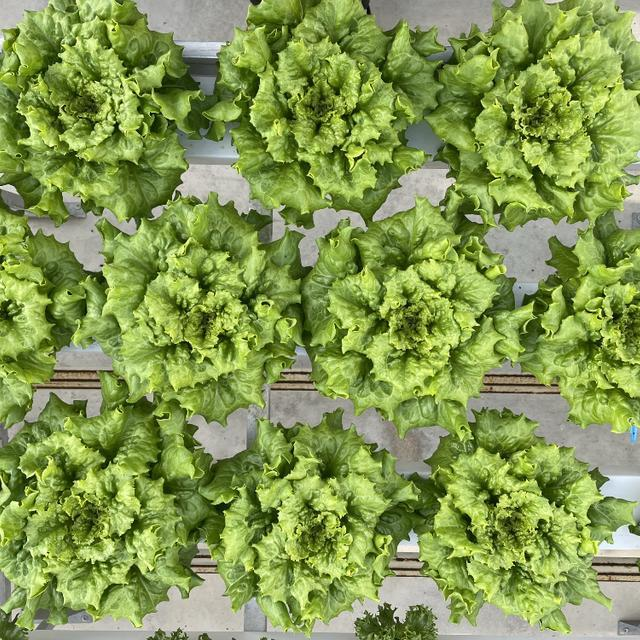Lettuce: (82, 193, 310, 422), (0, 388, 208, 631), (418, 408, 632, 632), (216, 0, 436, 215), (0, 0, 211, 223), (302, 204, 505, 434), (214, 403, 418, 630), (441, 0, 639, 231), (520, 213, 640, 432), (0, 205, 98, 425)
